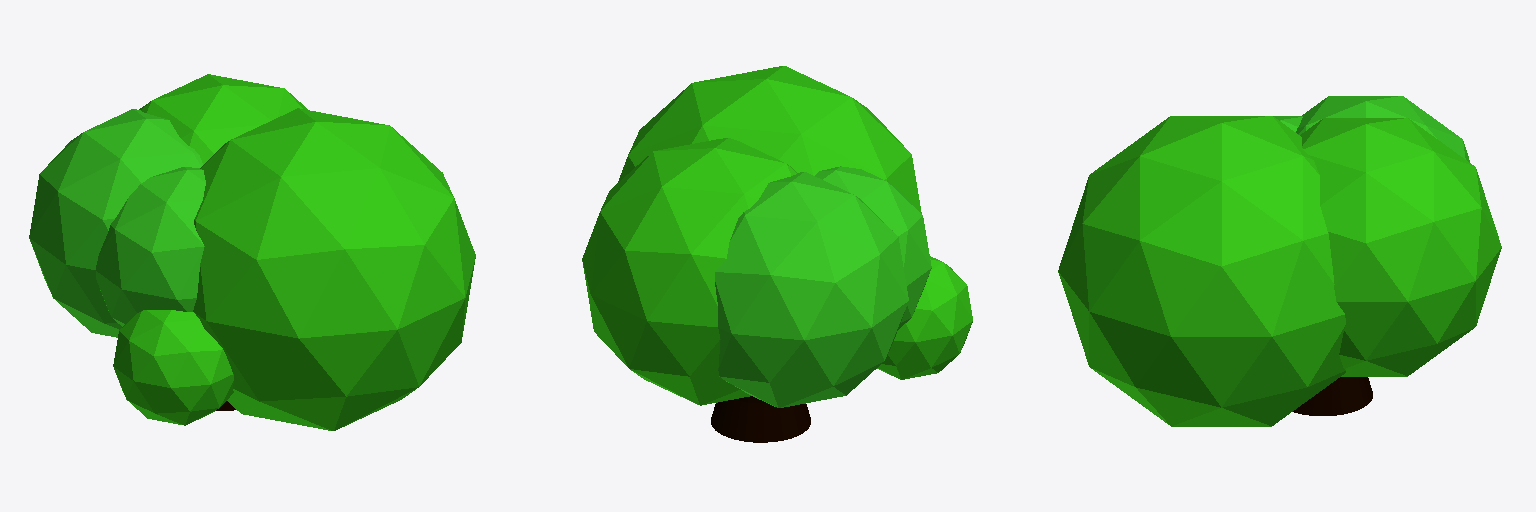
File: lowPolyBush.obj
3 renders of one model, left to right at view 1: azimuth 30°, elevation 25°; view 2: azimuth 150°, elevation 25°; view 3: azimuth 270°, elevation 25°, orthographic.
Visible parts, largest first — view 1: Icosphere.002, Icosphere.003, Icosphere, Icosphere.004, Icosphere.001; view 2: Icosphere.003, Icosphere.001, Icosphere.002, Icosphere.004, Icosphere, Cylinder.002; view 3: Icosphere.002, Icosphere.001, Icosphere.003, Cylinder.002.
Part boxes in pixels (left/top/right/bottom): Icosphere.002: left=193, top=108, right=475, bottom=430; Icosphere.003: left=29, top=109, right=202, bottom=337; Icosphere: left=96, top=167, right=205, bottom=326; Icosphere.004: left=113, top=310, right=233, bottom=425; Icosphere.001: left=139, top=74, right=307, bottom=164; Icosphere.003: left=715, top=172, right=908, bottom=407; Icosphere.001: left=582, top=138, right=796, bottom=405; Icosphere.002: left=618, top=66, right=921, bottom=213; Icosphere.004: left=877, top=256, right=972, bottom=379; Icosphere: left=815, top=166, right=931, bottom=329; Cylinder.002: left=711, top=396, right=810, bottom=442; Icosphere.002: left=1058, top=116, right=1345, bottom=426; Icosphere.001: left=1300, top=118, right=1501, bottom=376; Icosphere.003: left=1296, top=96, right=1469, bottom=162; Cylinder.002: left=1293, top=377, right=1372, bottom=415.
Size of the model in its own units: 2.38 by 2.04 by 2.77.